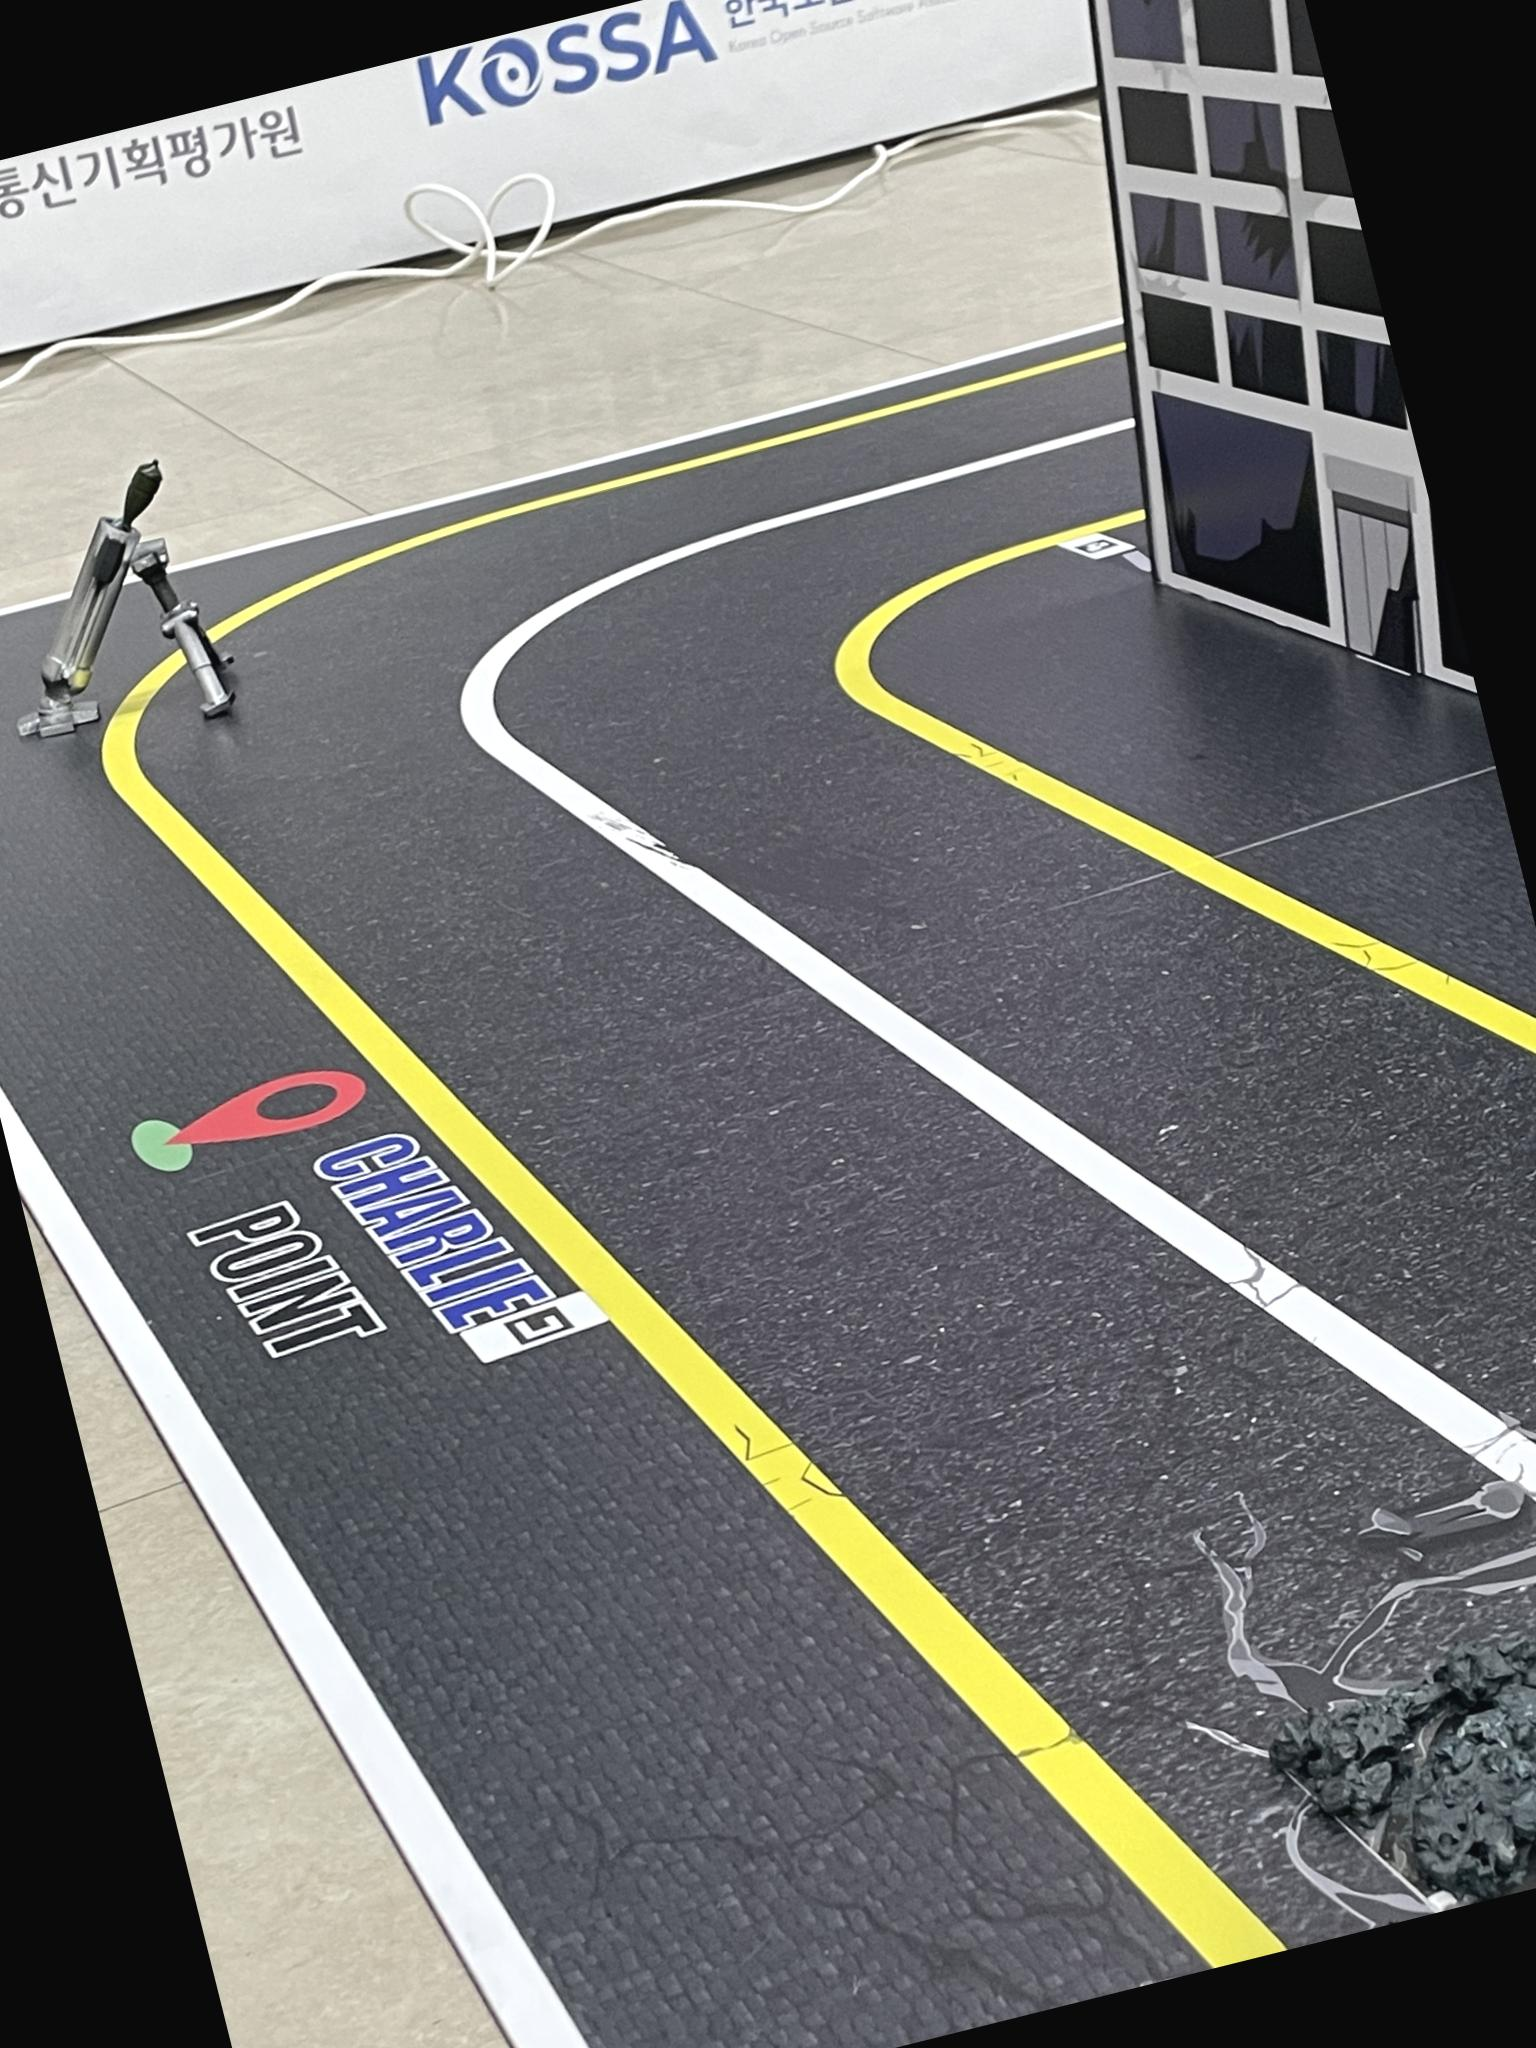Mortar: (0, 452, 245, 768)
